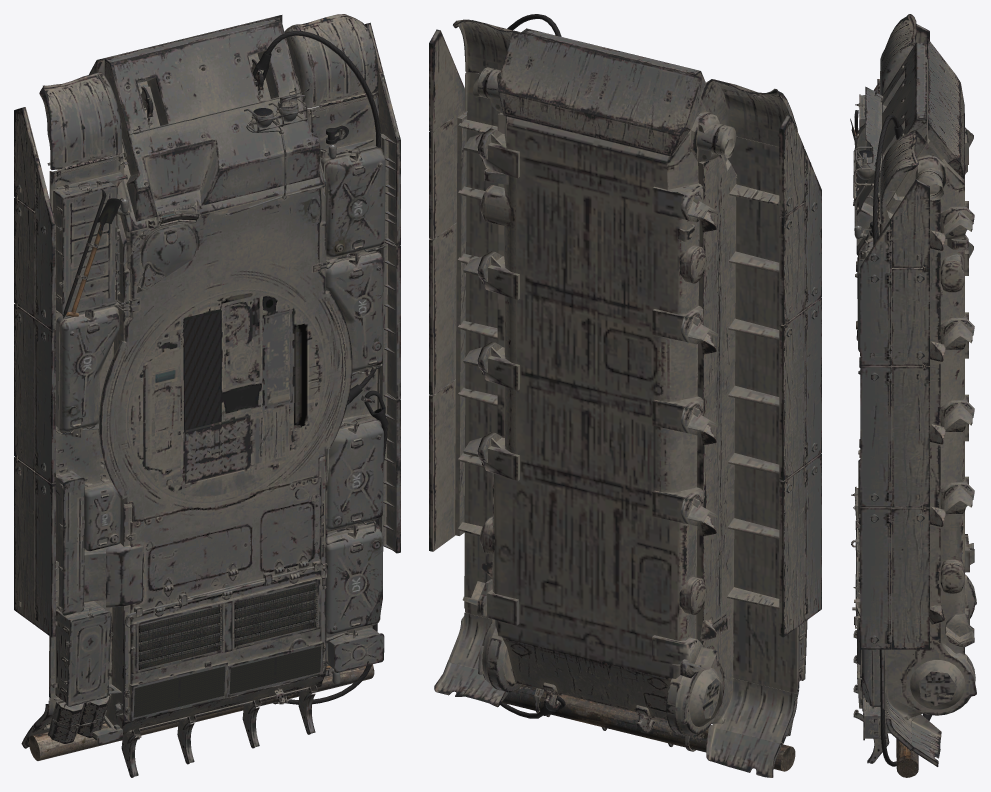
File: Hull.glb
3 views of the same model, side by side, from view 1: azimuth 30°, elevation 25°; view 2: azimuth 150°, elevation 25°; view 3: azimuth 270°, elevation 25° (orthographic). The views are drawn at different scales.
Visible parts, largest first — view 1: set_0_group_0; view 2: set_0_group_0; view 3: set_0_group_0.
Part boxes in pixels (x1,y1,x2,y2): set_0_group_0: (14,14,400,777); set_0_group_0: (429,14,821,777); set_0_group_0: (850,14,976,777).
Bounding box in the file's own units: 3.51 × 6.64 × 1.18.
1 material, 1 textured.
